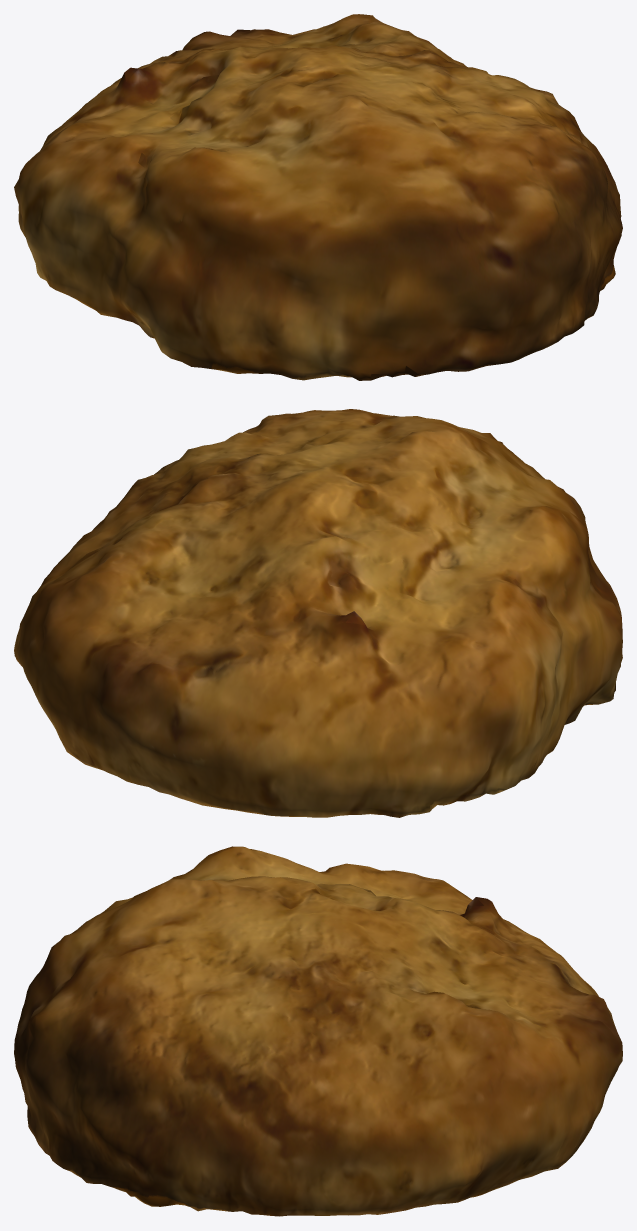
Rendered from cookie1v1.glb.
3 renders of one model, top to bottom at view 1: azimuth 30°, elevation 25°; view 2: azimuth 150°, elevation 25°; view 3: azimuth 270°, elevation 25°, orthographic. The views are drawn at different scales.
Visible parts, largest first — view 1: cookie1v1_LOD0_cacke1v1_LOD0_0; view 2: cookie1v1_LOD0_cacke1v1_LOD0_0; view 3: cookie1v1_LOD0_cacke1v1_LOD0_0.
Boxes of the visible parts, x1,y1,x2,y2 form: cookie1v1_LOD0_cacke1v1_LOD0_0: (14,14,622,380); cookie1v1_LOD0_cacke1v1_LOD0_0: (14,409,622,817); cookie1v1_LOD0_cacke1v1_LOD0_0: (14,846,622,1216).
Bounding box in the file's own units: 11.4 × 4.88 × 12.34.
Materials: 1 (1 with a texture image).
